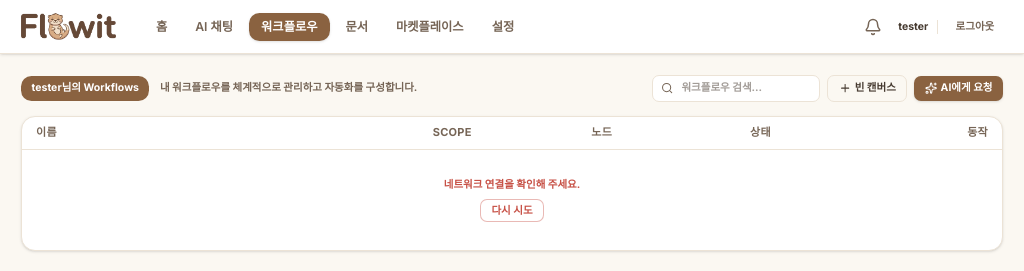
WorkflowListPage error handling › renders retry button and retries on click
This screenshot has width=1024, height=271.
Expected: the text "네트워크 연결을 확인해 주세요." is shown, [444,178,580,192]
Click the button "다시 시도". click: [512, 211]
box: [480,199,544,222]
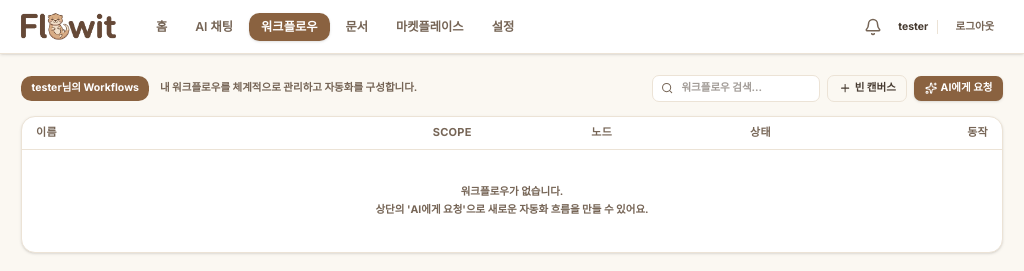
Now the text "네트워크 연결을 확인해 주세요." is gone
Now the text "워크플로우가 없습니다." is shown, box [461,185,563,198]
